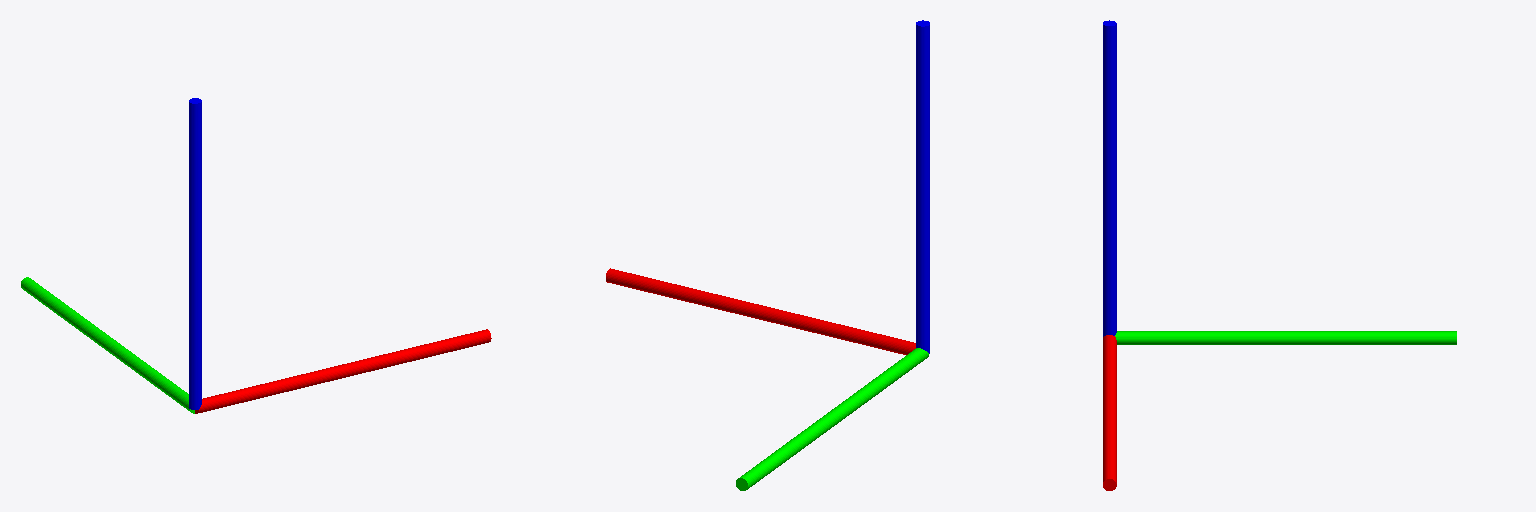
The robot description file, URDF, robot "axis":
<?xml version="1.0" ?>
<robot name="axis">
  <link name="world"/>
  <link name="x_link">
    <visual>
      <origin rpy="0 1.5708 0" xyz="0.05 0 0"/>
      <geometry>
				<cylinder radius="0.002" length="0.1"/>
      </geometry>
       <material name="red">
        <color rgba="1 0.0 0 0.5"/>
      </material>
    </visual>
  </link>
  <link name="y_link">
    <visual>
      <origin rpy="1.5708 0 0" xyz="0 0.05 0"/>
      <geometry>
        <cylinder radius="0.002" length="0.1"/>
      </geometry>
       <material name="green">
        <color rgba="0 1 0 0.5"/>
      </material>
    </visual>
  </link>
      <link name="z_link">
    <visual>
      <origin rpy="0 0 0" xyz="0 0  0.05 "/>
      <geometry>
        <cylinder radius="0.002" length="0.1"/>
      </geometry>
       <material name="blue">
        <color rgba="0 0 1 0.5"/>
      </material>
    </visual>
  </link>


 <joint name="x_joint" type="fixed">
    <origin xyz="0 0 0" rpy="0 0 0"/>
    <parent link="world"/>
    <child link="x_link"/>
 </joint>
 <joint name="y_joint" type="fixed">
    <origin xyz="0 0 0" rpy="0 0 0"/>
    <parent link="world"/>
    <child link="y_link"/>
 </joint>
   <joint name="z_joint" type="fixed">
    <origin xyz="0 0 0" rpy="0 0 0"/>
    <parent link="world"/>
    <child link="z_link"/>
 </joint>
</robot>

--- Render facts (derived) ---
3 views of the same robot in one strip: view 1: azimuth 30°, elevation 25°; view 2: azimuth 150°, elevation 25°; view 3: azimuth 270°, elevation 25° (orthographic).
Model axis with 4 links and 3 joints (3 fixed), rooted at world, posed all joints at 0.
Links seen in each view (by area): view 1: z_link, x_link, y_link; view 2: z_link, x_link, y_link; view 3: y_link, z_link, x_link.
Boxes of the visible links, x1,y1,x2,y2 form: z_link: (189,98,201,409); x_link: (195,329,491,413); y_link: (21,277,194,413); z_link: (916,20,929,353); x_link: (606,268,915,354); y_link: (736,348,928,490); y_link: (1115,331,1456,344); z_link: (1103,20,1116,336); x_link: (1103,335,1116,490).
Bounding box of the posed robot: 0.102 × 0.102 × 0.102 m (x, y, z).
Geometry: primitives only (box / cylinder / sphere), no mesh files.
